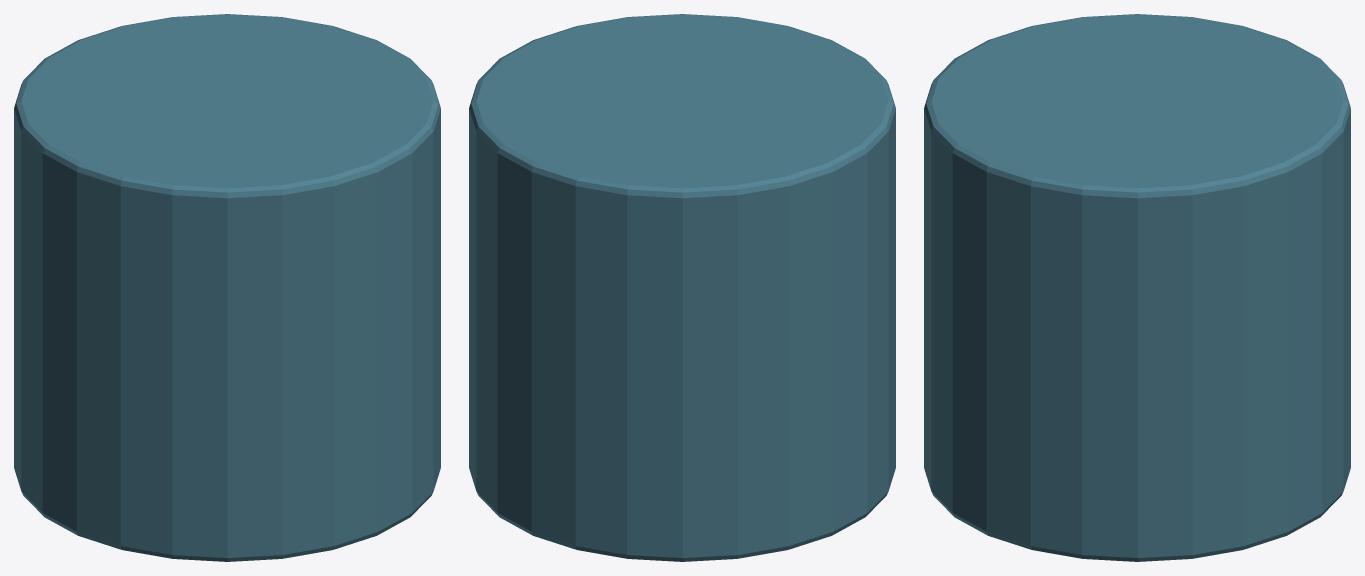
File: SM_Lab_SampleCanister__Sleeve.fbx
3 renders of one model, left to right at view 1: azimuth 30°, elevation 25°; view 2: azimuth 150°, elevation 25°; view 3: azimuth 270°, elevation 25°, orthographic.
Visible parts, largest first — view 1: SM_Lab_SampleCanister__Sleeve; view 2: SM_Lab_SampleCanister__Sleeve; view 3: SM_Lab_SampleCanister__Sleeve.
Part boxes in pixels (x1,y1,x2,y2): SM_Lab_SampleCanister__Sleeve: (14,14,440,561); SM_Lab_SampleCanister__Sleeve: (469,14,895,561); SM_Lab_SampleCanister__Sleeve: (924,14,1350,561).
Bounding box in the file's own units: 11.4 × 11.4 × 11.
